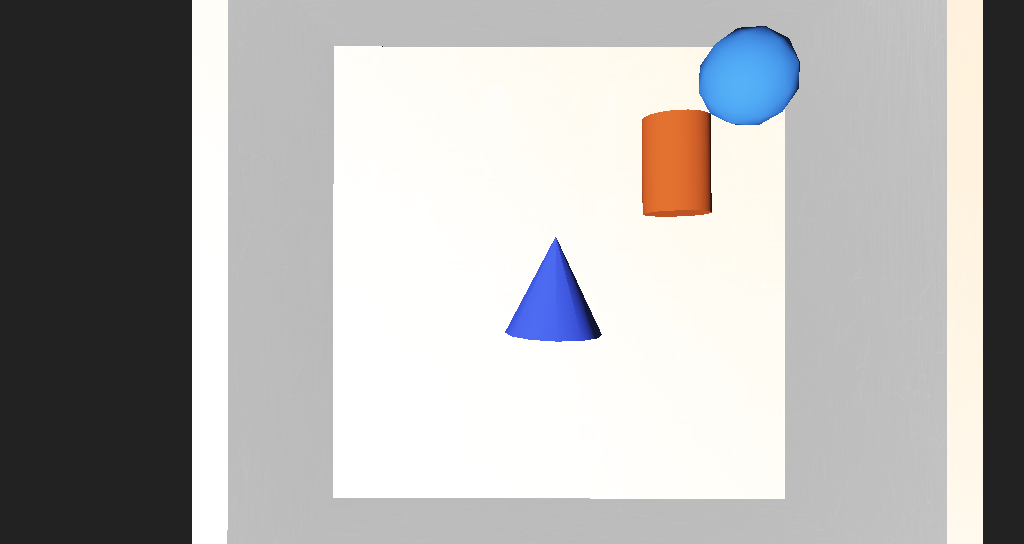cone: (563, 193, 610, 246)
cylinder: (475, 251, 536, 303)
sphere: (593, 160, 660, 203)
